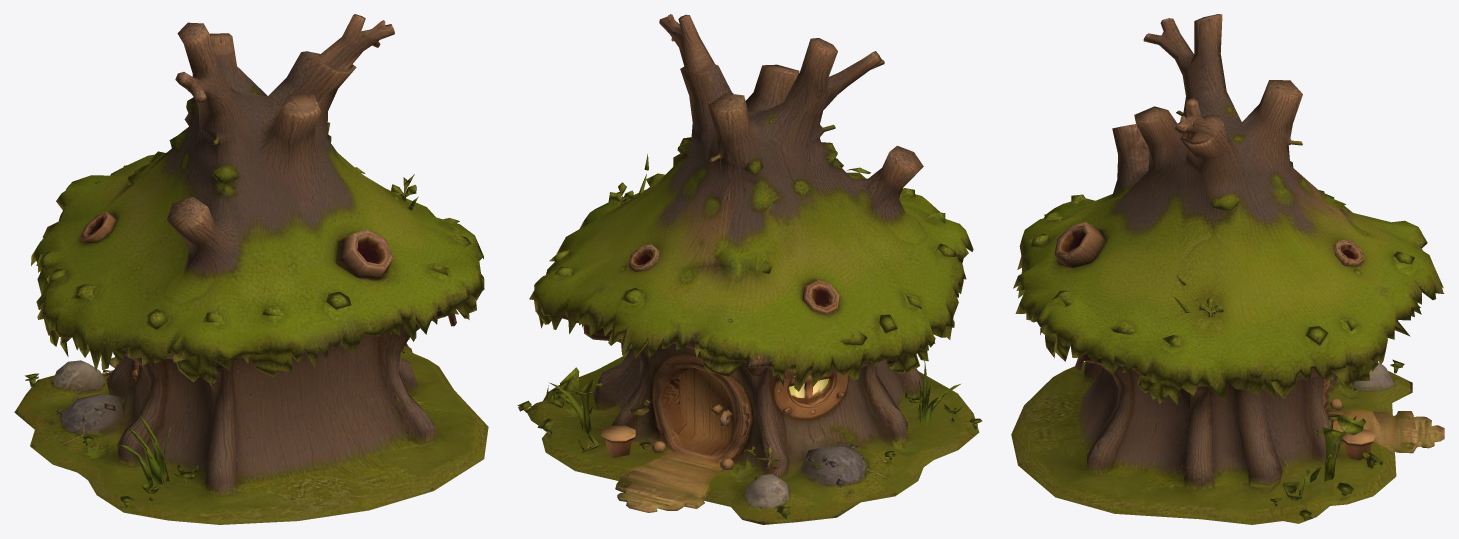
Rendered from lioraen_groveheart.glb.
3 views of the same model, side by side, from view 1: azimuth 30°, elevation 25°; view 2: azimuth 150°, elevation 25°; view 3: azimuth 270°, elevation 25° (orthographic). The views are drawn at different scales.
Bounding box in the file's own units: 1.19 × 1.2 × 1.2.
1 material, 1 textured.
